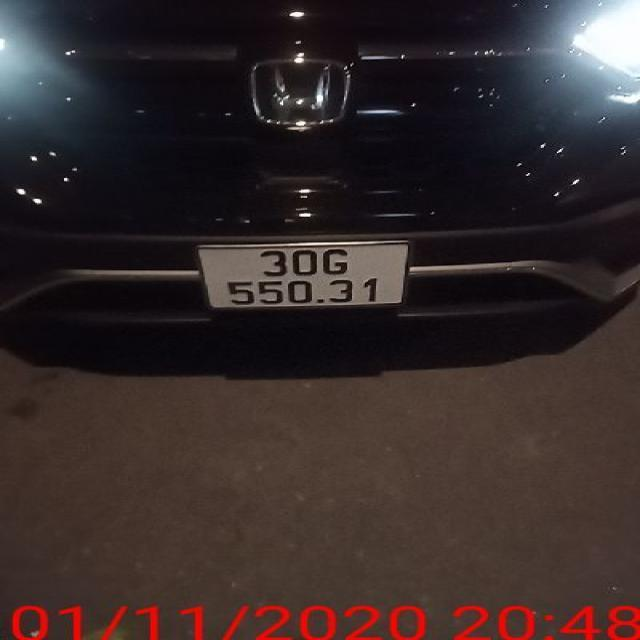bien_so_oto: (192, 238, 412, 314)
